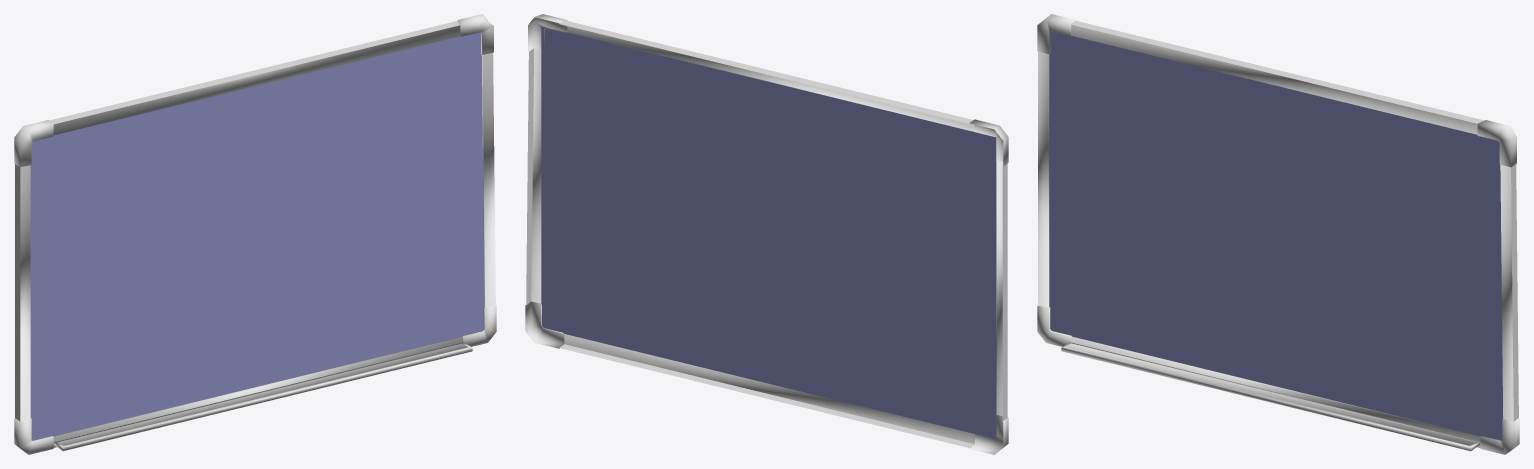
Rendered from LAVAGNA LP.FBX.
3 renders of one model, left to right at view 1: azimuth 30°, elevation 25°; view 2: azimuth 150°, elevation 25°; view 3: azimuth 330°, elevation 25°, orthographic.
Visible parts, largest first — view 1: PLANE, LAVAGNA_LP; view 2: PLANE, LAVAGNA_LP; view 3: PLANE, LAVAGNA_LP.
Boxes of the visible parts, x1=… form: PLANE: x1=30, y1=32, x2=484, y2=440; LAVAGNA_LP: x1=14, y1=14, x2=496, y2=454; PLANE: x1=541, y1=26, x2=996, y2=438; LAVAGNA_LP: x1=525, y1=14, x2=1008, y2=454; PLANE: x1=1049, y1=31, x2=1503, y2=440; LAVAGNA_LP: x1=1037, y1=14, x2=1519, y2=454.
Size of the model in its own units: 181 by 118 by 9.8.
